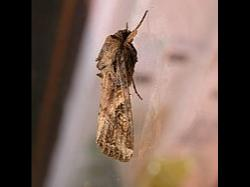army worm adult: (97, 10, 150, 164)
